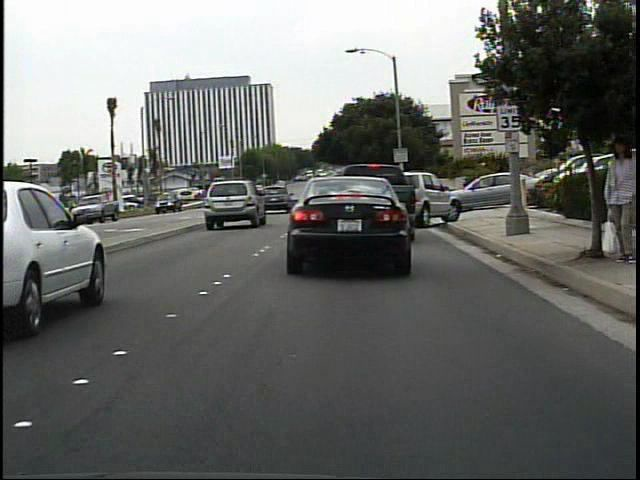person: (596, 135, 636, 267)
